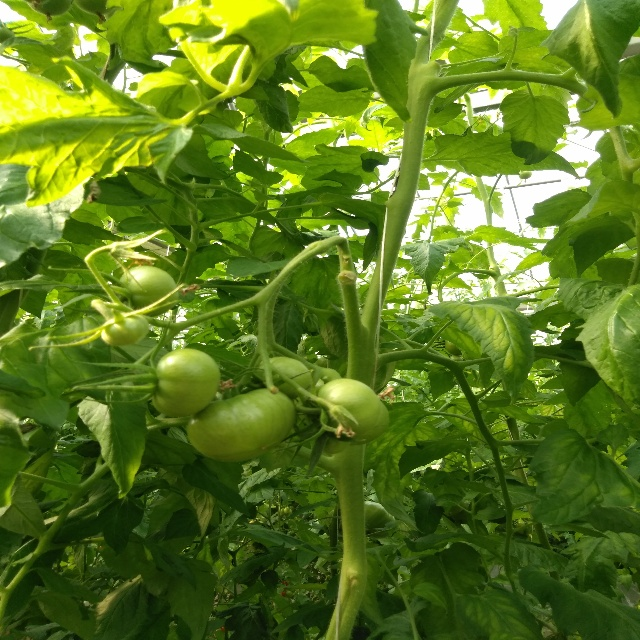b_green: (186, 385, 295, 464), (152, 348, 221, 417), (317, 378, 383, 436), (116, 265, 179, 317), (254, 356, 314, 400), (99, 311, 149, 346), (364, 501, 397, 539)
